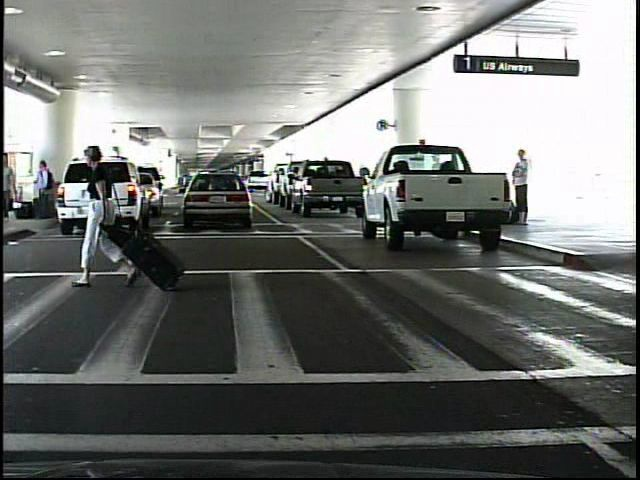person: (76, 143, 147, 292), (499, 151, 537, 226), (33, 158, 54, 221)
